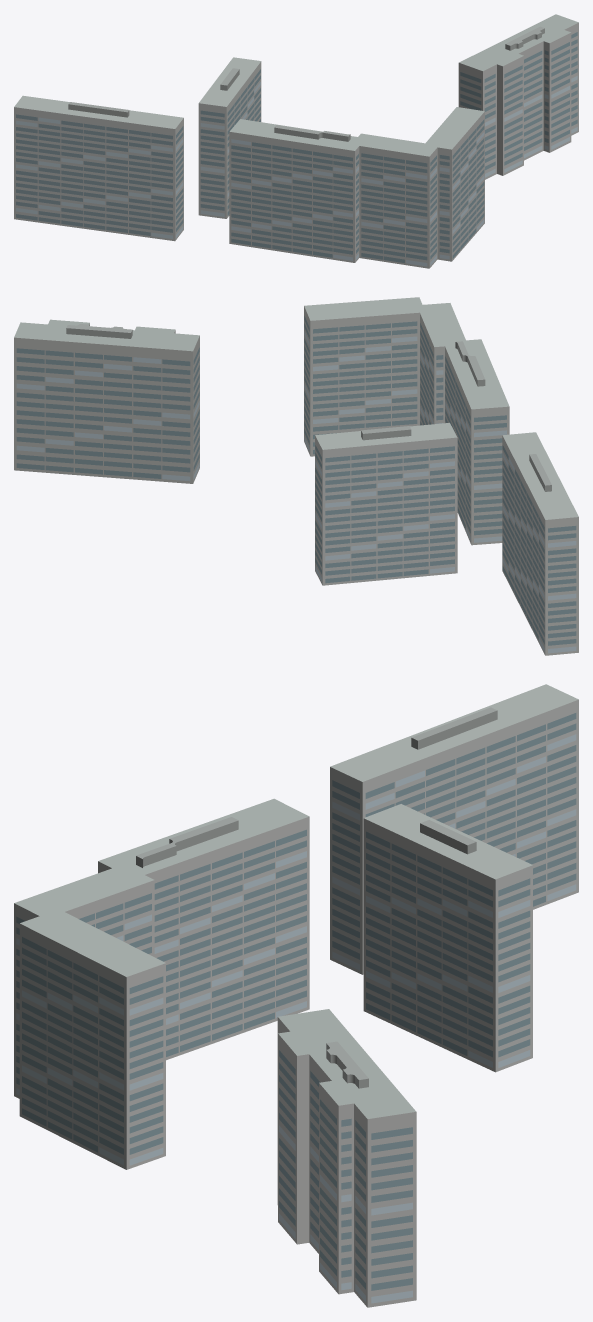
The model's file is apt-a13993901.glb.
3 renders of one model, top to bottom at view 1: azimuth 30°, elevation 25°; view 2: azimuth 150°, elevation 25°; view 3: azimuth 270°, elevation 25°, orthographic. The views are drawn at different scales.
Visible parts, largest first — view 1: apt-a13993901; view 2: apt-a13993901; view 3: apt-a13993901.
Part boxes in pixels (box(x1,y1,x2,y2)): apt-a13993901: box(14, 14, 578, 268); apt-a13993901: box(14, 297, 578, 655); apt-a13993901: box(14, 684, 578, 1307).
Bounding box in the file's own units: 224 × 49 × 124.
